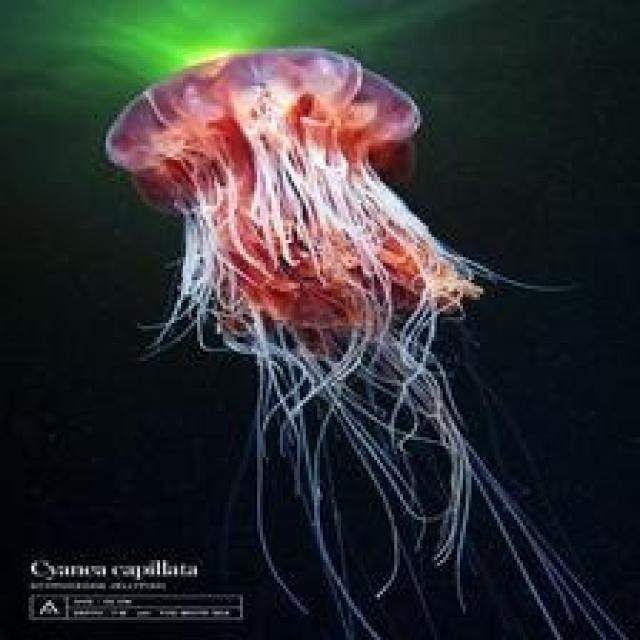Box-jellyfish: (100, 43, 637, 637)
